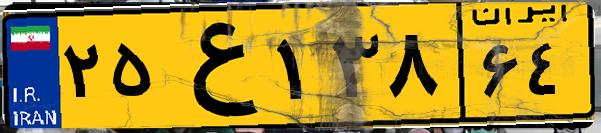1: (270, 28, 330, 110)
2: (57, 26, 110, 100)
3: (330, 28, 385, 110)
4: (525, 38, 570, 115)
5: (110, 28, 158, 98)
6: (475, 38, 525, 113)
8: (385, 28, 445, 110)
ع: (158, 12, 270, 120)
